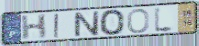H: (20, 13, 48, 42)
I: (53, 12, 61, 39)
L: (153, 5, 177, 34)
N: (72, 10, 101, 38)
O: (99, 9, 127, 37), (126, 8, 150, 35)
